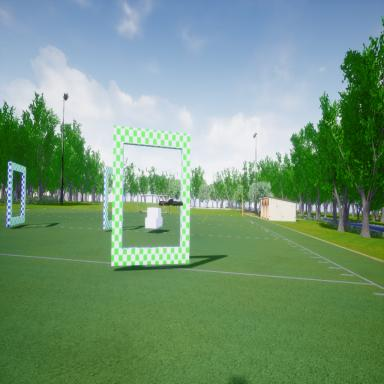gate: (110, 119, 193, 277), (4, 157, 28, 233)
